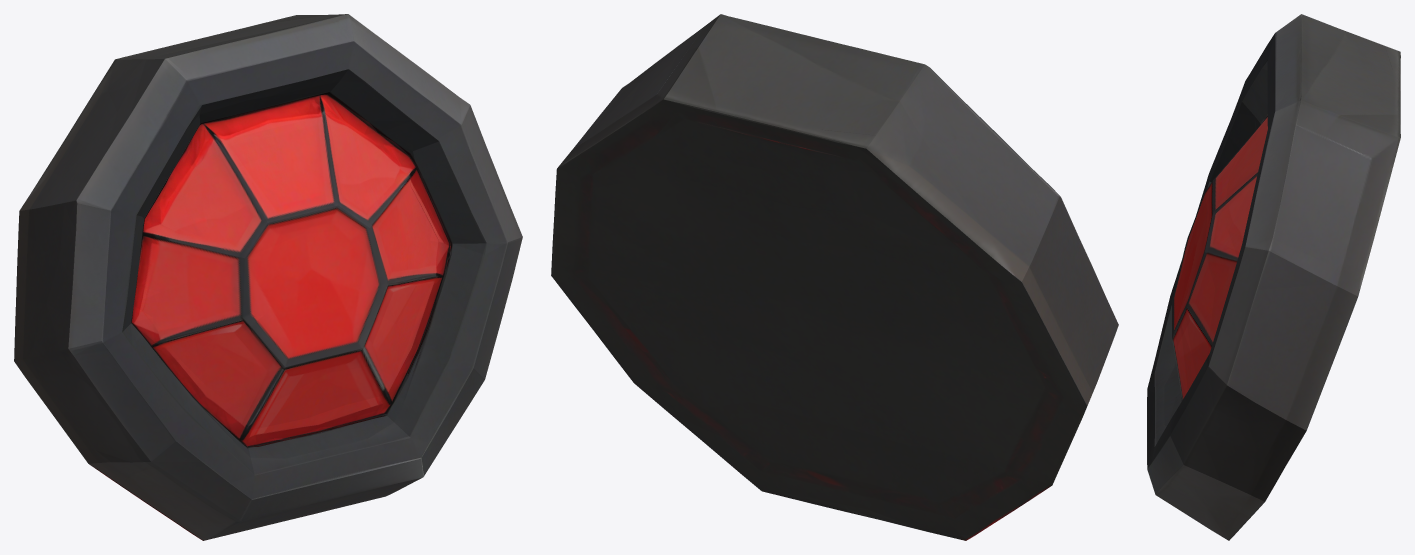
File: Red_Hexagon_Medallion_0620181237_texture.fbx
3 renders of one model, left to right at view 1: azimuth 30°, elevation 25°; view 2: azimuth 150°, elevation 25°; view 3: azimuth 270°, elevation 25°, orthographic. The views are drawn at different scales.
Parts seen in each view (by area): view 1: temp; view 2: temp; view 3: temp.
Part boxes in pixels (left/top/right/bottom): temp: left=14, top=14, right=522, bottom=540; temp: left=551, top=14, right=1118, bottom=540; temp: left=1147, top=14, right=1400, bottom=540.
Bounding box in the file's own units: 201 × 182 × 94.93.
1 material, 1 textured.
